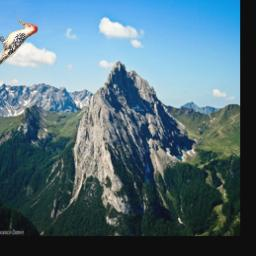Woodpecker: (0, 19, 38, 64)
